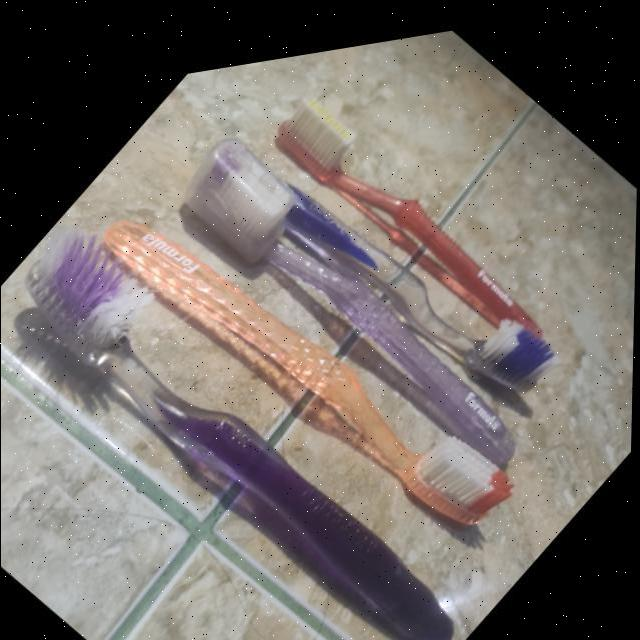toothbrush: (0, 132, 524, 640), (80, 98, 544, 614), (154, 56, 586, 536), (251, 10, 613, 412), (216, 43, 576, 444)
